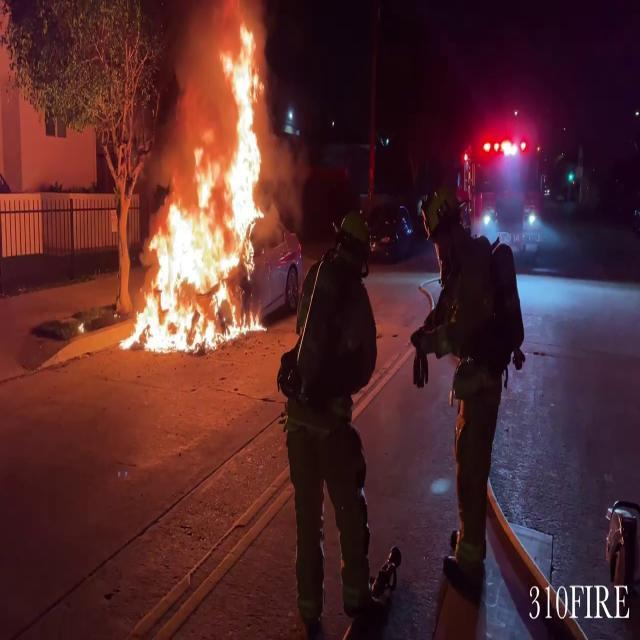Fire: (128, 14, 280, 354)
